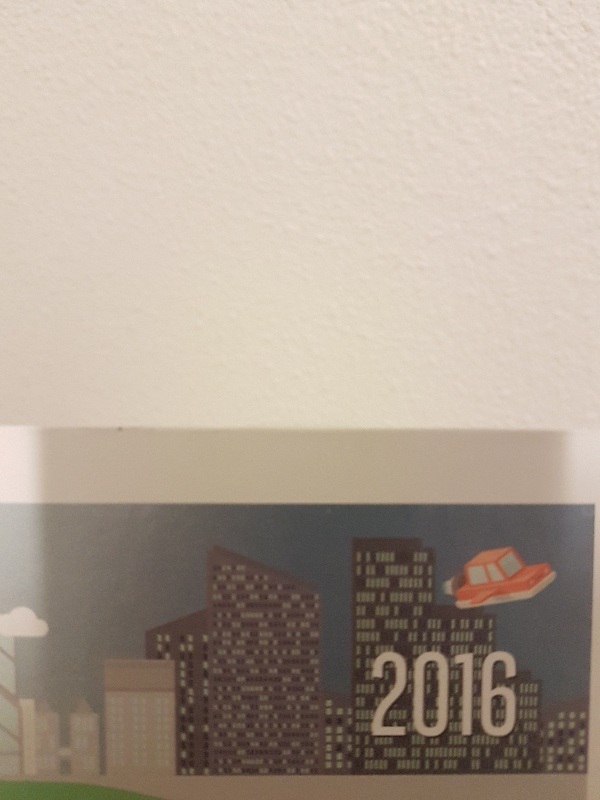text: (385, 651, 400, 738), (401, 651, 416, 738), (417, 651, 432, 738), (433, 651, 448, 738), (449, 651, 464, 738), (465, 651, 480, 738), (481, 651, 496, 738), (497, 651, 512, 738), (371, 651, 384, 738), (513, 651, 521, 738)
